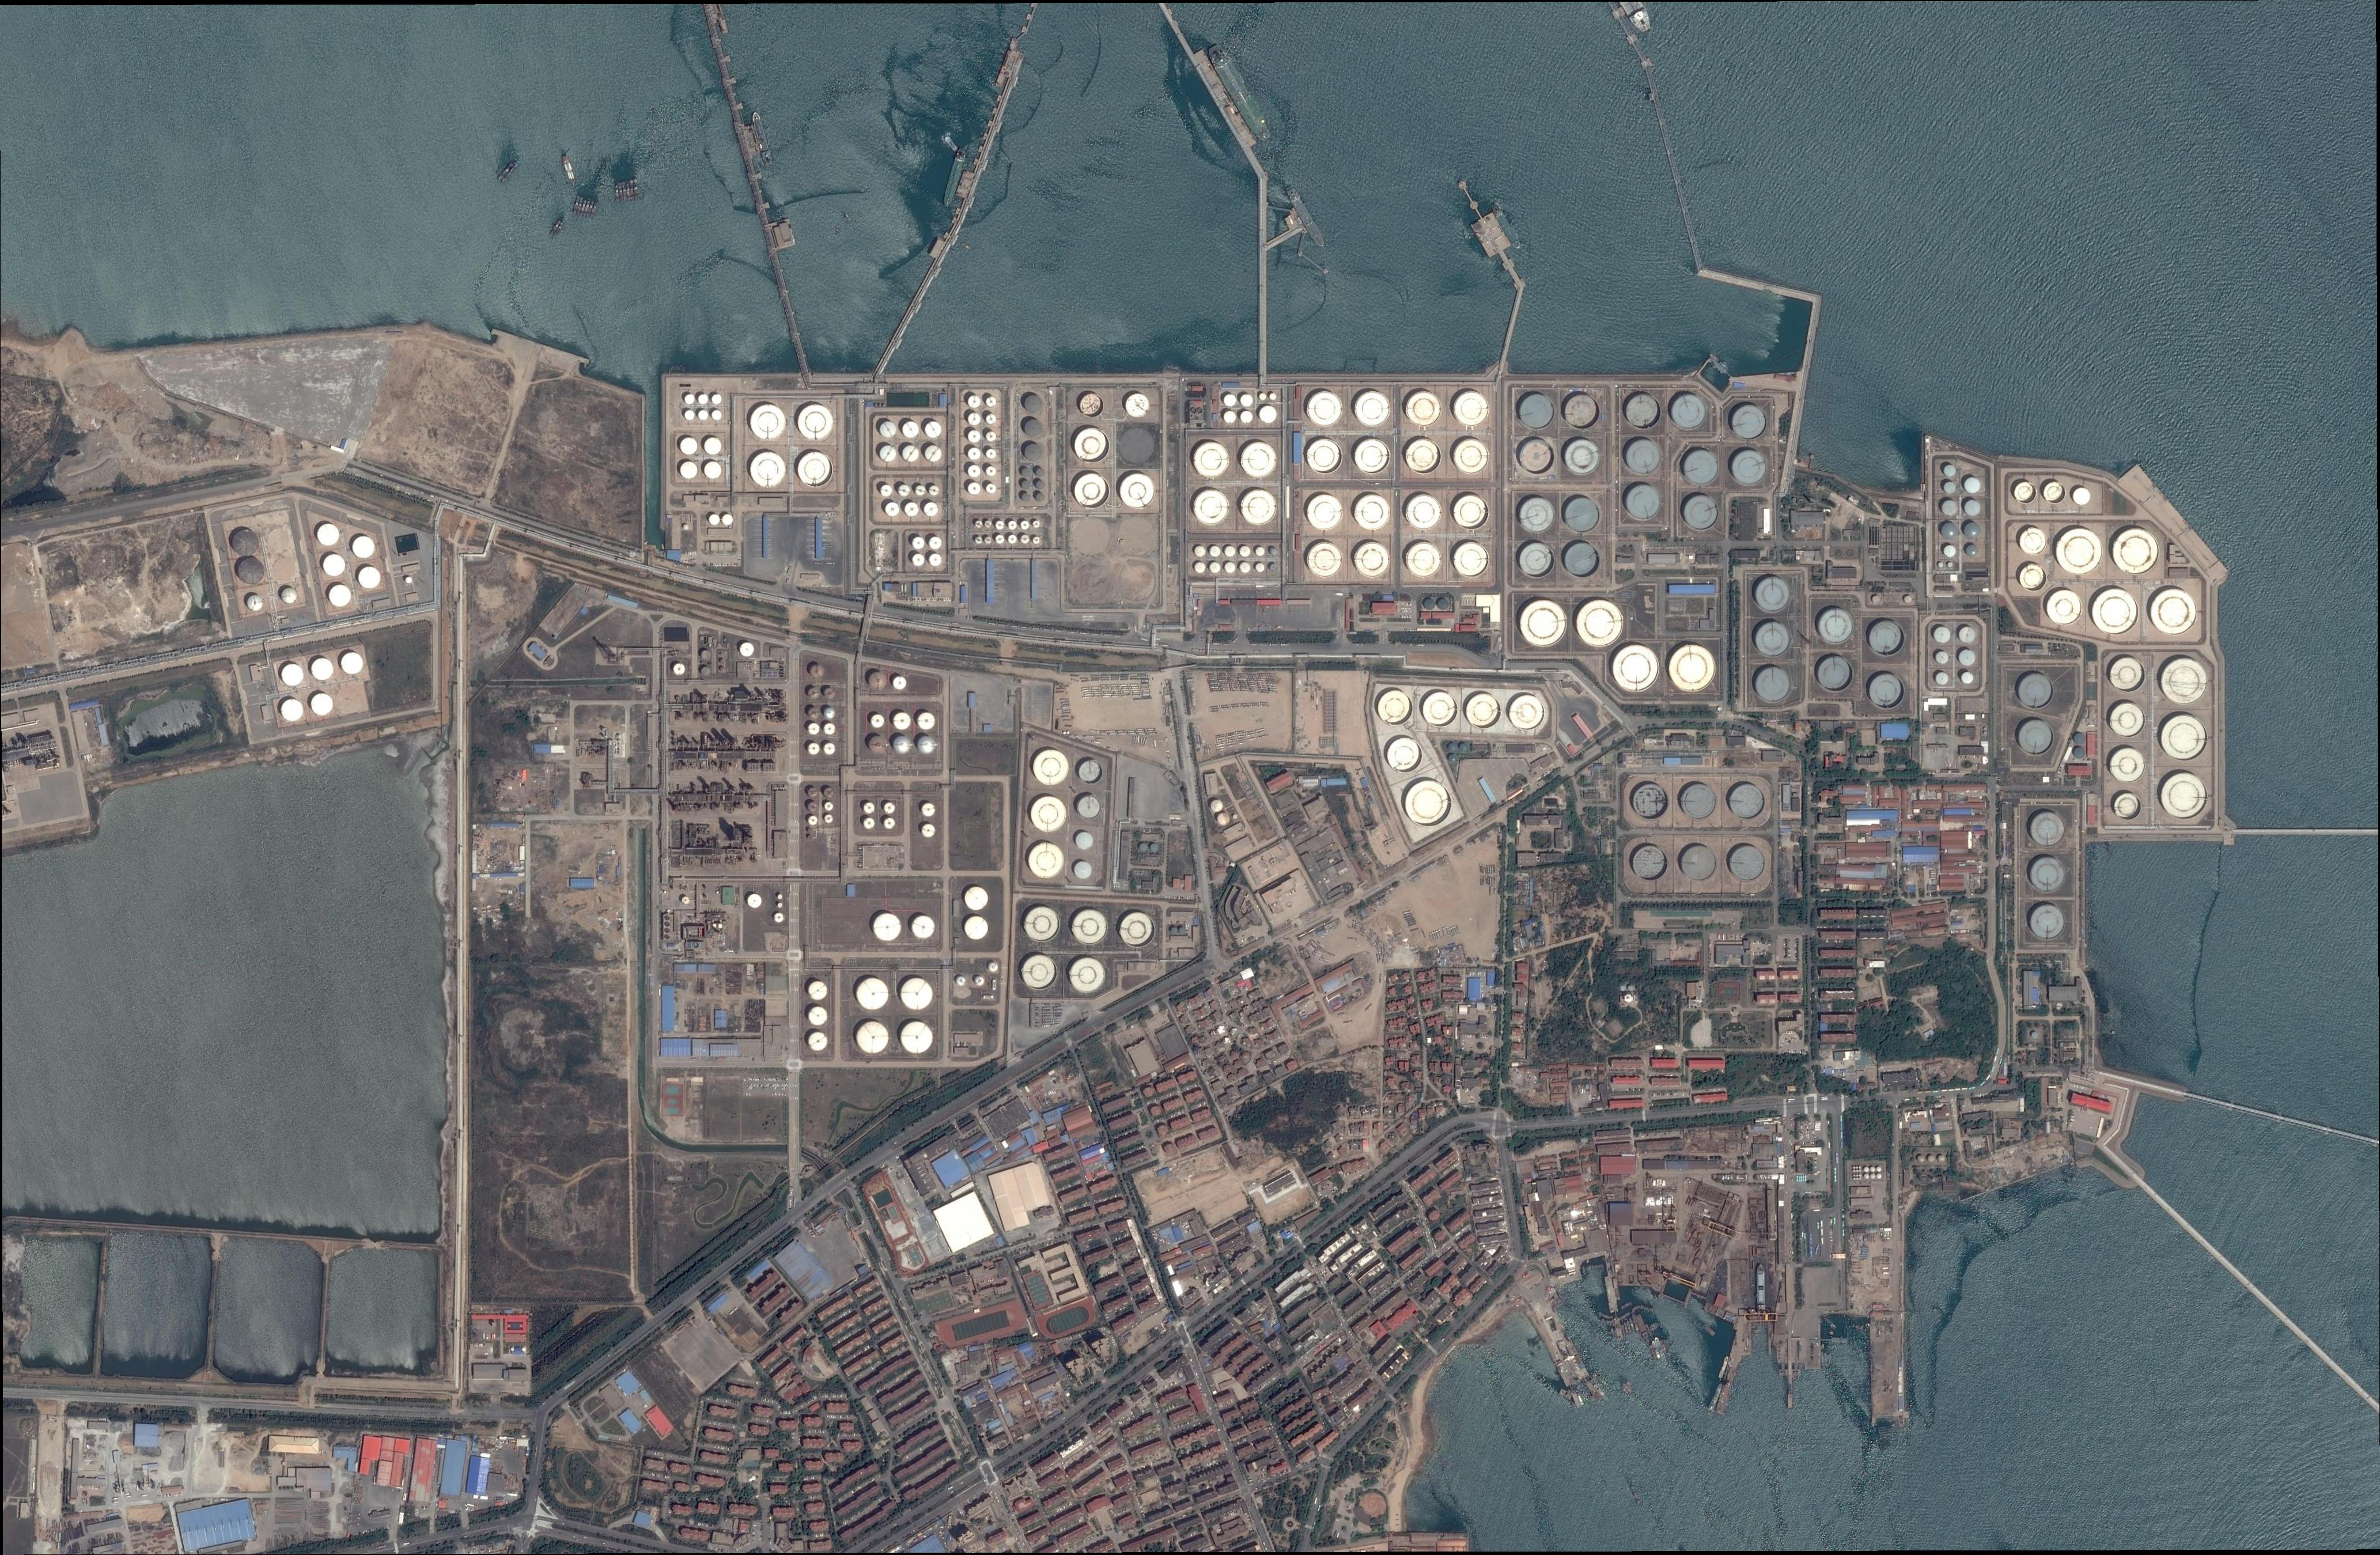harbor: (1527, 1303, 1589, 1387), (1714, 1324, 1757, 1420), (1605, 1274, 1629, 1342), (1301, 253, 1329, 276)
ship: (1206, 43, 1275, 144), (1193, 49, 1258, 149), (1285, 186, 1327, 248), (942, 148, 968, 208), (1492, 203, 1521, 250), (751, 111, 774, 167), (1756, 1263, 1766, 1312), (498, 158, 519, 180), (501, 161, 520, 184), (562, 156, 576, 186), (1709, 1383, 1723, 1411), (1636, 1316, 1650, 1340), (1653, 1336, 1665, 1359), (1719, 1355, 1729, 1378), (944, 135, 958, 151), (1594, 1385, 1608, 1401), (1702, 1324, 1716, 1336), (572, 196, 581, 215), (576, 196, 585, 215), (579, 198, 588, 217), (583, 198, 592, 217), (550, 220, 560, 236), (553, 222, 564, 238), (1632, 1314, 1641, 1331), (586, 200, 595, 217), (590, 203, 598, 219), (618, 182, 624, 201), (1709, 352, 1719, 363), (633, 179, 638, 200), (630, 180, 635, 200), (1629, 1319, 1636, 1331), (626, 180, 630, 201), (623, 182, 626, 201), (1719, 361, 1728, 368), (616, 186, 619, 203)
